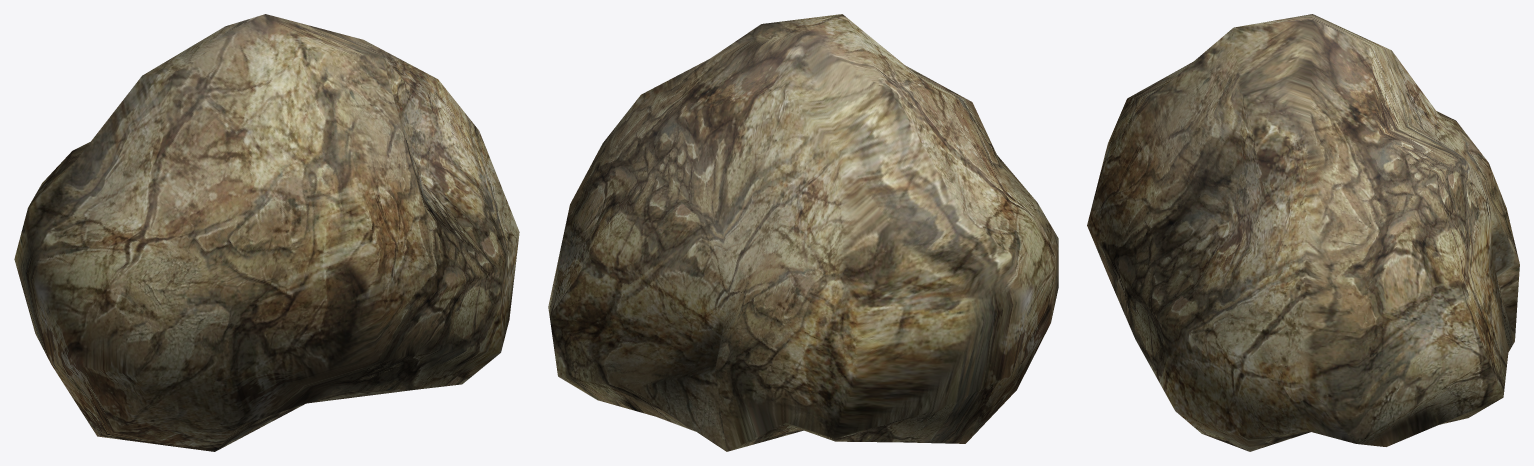
File: Roca.obj
3 views of the same model, side by side, from view 1: azimuth 30°, elevation 25°; view 2: azimuth 150°, elevation 25°; view 3: azimuth 270°, elevation 25° (orthographic). The views are drawn at different scales.
Visible parts, largest first — view 1: Roca_Material.001; view 2: Roca_Material.001; view 3: Roca_Material.001.
Part boxes in pixels (x1=…): Roca_Material.001: x1=14, y1=14, x2=519, y2=451; Roca_Material.001: x1=548, y1=14, x2=1058, y2=451; Roca_Material.001: x1=1087, y1=14, x2=1519, y2=451.
Size of the model in its own units: 10.05 by 7.94 by 8.33.
